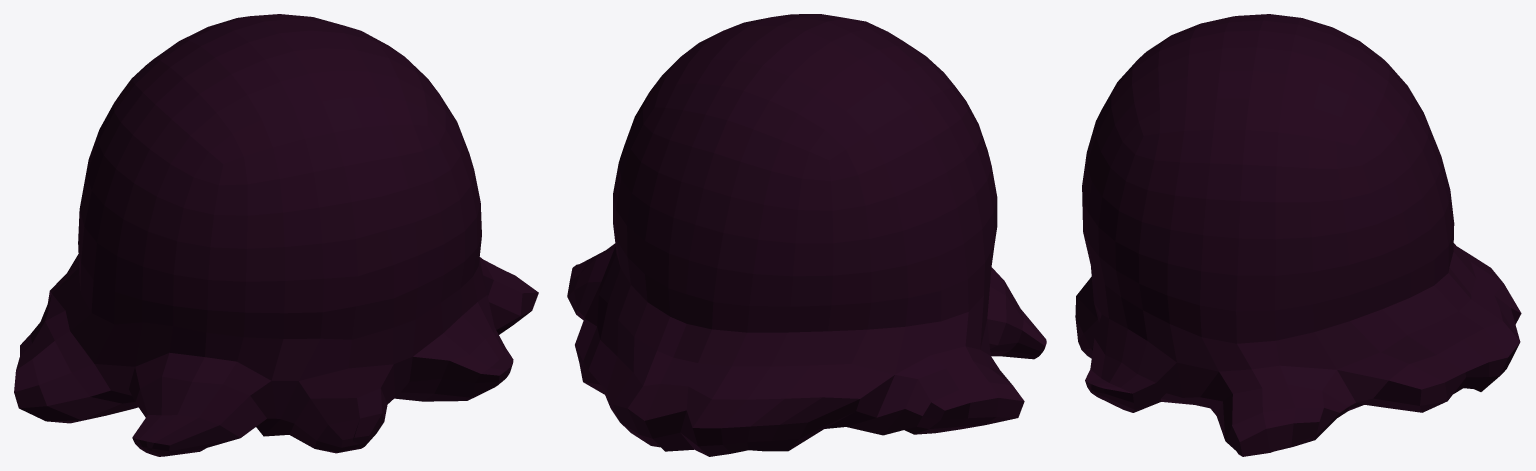
The model's file is phobosdefinitive.fbx.
3 renders of one model, left to right at view 1: azimuth 30°, elevation 25°; view 2: azimuth 150°, elevation 25°; view 3: azimuth 270°, elevation 25°, orthographic. The views are drawn at different scales.
Visible parts, largest first — view 1: fobos body; view 2: fobos body; view 3: fobos body.
Boxes of the visible parts, box(x1,y1,x2,y2) form: fobos body: box(14, 14, 538, 456); fobos body: box(567, 14, 1046, 456); fobos body: box(1075, 14, 1521, 456).
Bounding box in the file's own units: 2.51 × 1.73 × 2.07.
